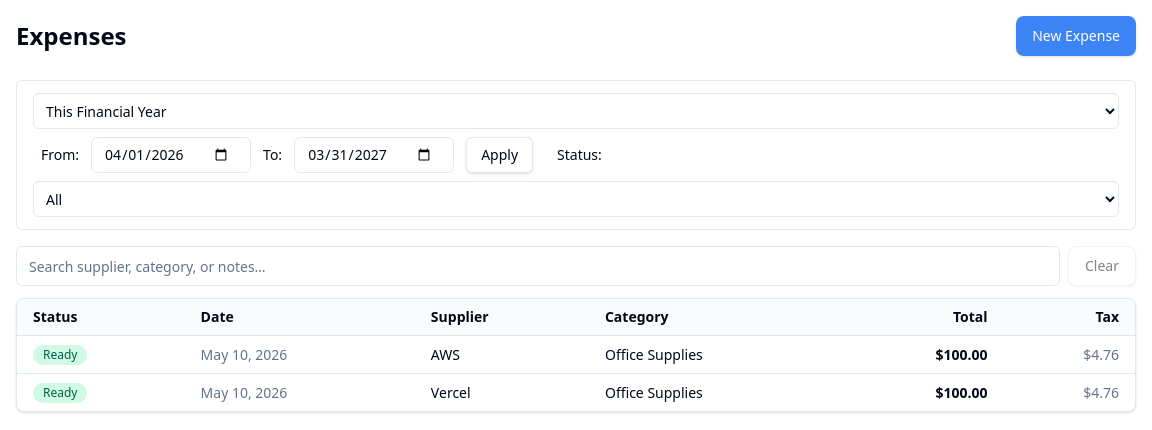
Test: Expenses landing › filters out matching rows when search is non-empty
This screenshot has width=1152, height=430.
Expected: the text "AWS" is shown, [415, 336, 589, 374]
In the field named "Search expenses": [538, 266] box [16, 246, 1060, 286], type "Vercel"
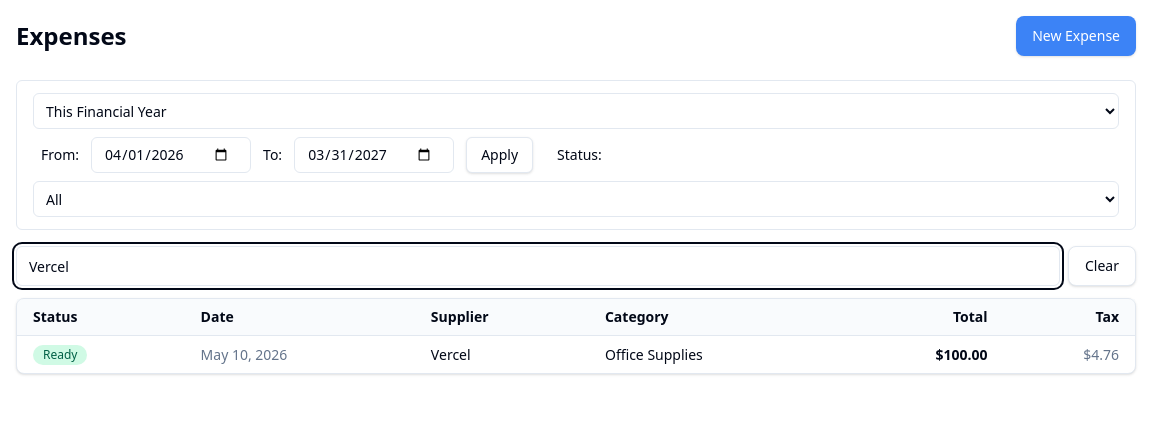
Expected: the text "Vercel" is shown, [415, 336, 589, 373]
Now the text "AWS" is gone
